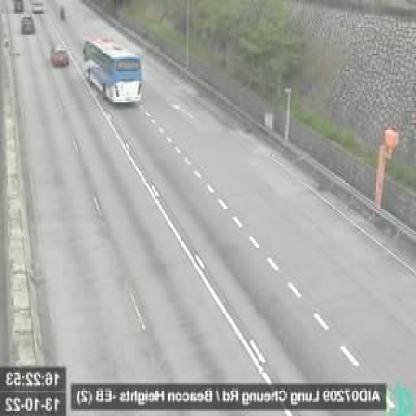Bus: (82, 35, 141, 108)
Car: (51, 45, 67, 67), (20, 14, 35, 34)
